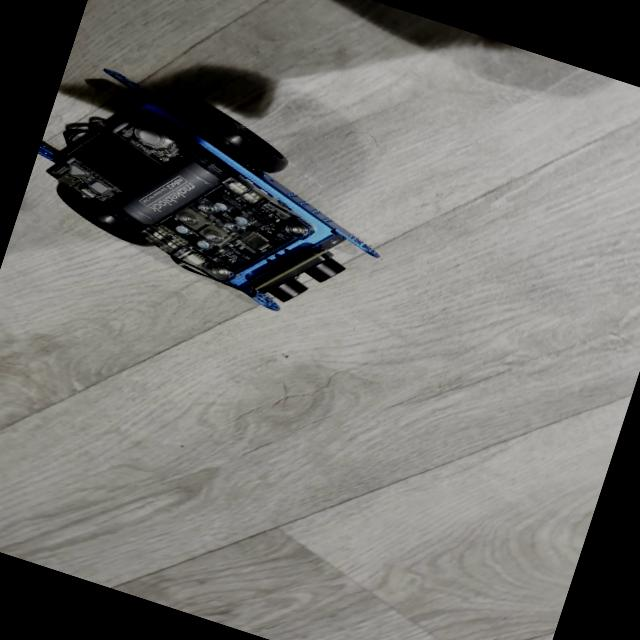mbot-detection: (12, 52, 420, 347)
